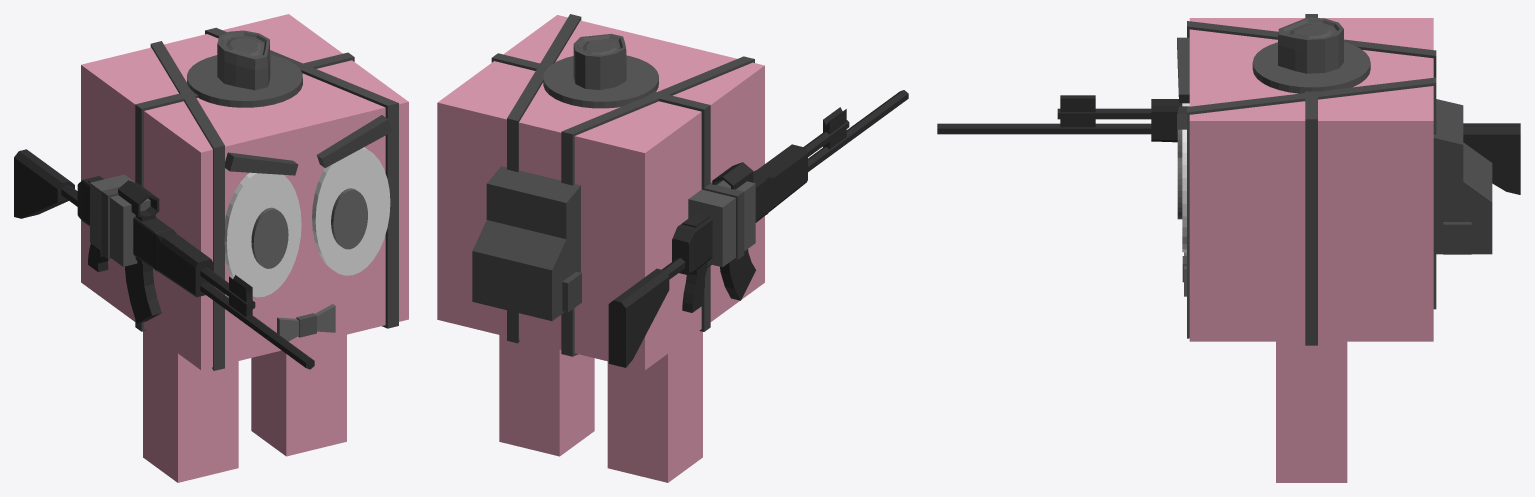
File: Bob.fbx
The picture shows the model from 3 angles, left to right: view 1: azimuth 30°, elevation 25°; view 2: azimuth 150°, elevation 25°; view 3: azimuth 270°, elevation 25°; orthographic projection.
Parts seen in each view (by area): view 1: cubo, arma, perna_dir, perna_esq, fedora, olho_eq, olho_dir, suspensorio_esq, suspensorio_dir, mao_mecanica, iris_dir, iris_esq (+5 smaller); view 2: cubo, Mochila, arma, perna_dir, perna_esq, fedora, suspensorio_dir, mao_mecanica, suspensorio_esq, suspensorio_meio, Cube.007; view 3: cubo, perna_esq, arma, Mochila, fedora, suspensorio_meio, suspensorio_esq, suspensorio_dir, sombracelha_dir, olho_eq.
Part boxes in pixels (bbox=[...]): cubo: bbox=[81, 14, 408, 369]; arma: bbox=[14, 149, 314, 369]; perna_dir: bbox=[143, 330, 238, 482]; perna_esq: bbox=[251, 334, 346, 456]; fedora: bbox=[187, 30, 302, 107]; olho_eq: bbox=[312, 147, 390, 275]; olho_dir: bbox=[224, 172, 301, 297]; suspensorio_esq: bbox=[205, 27, 398, 328]; suspensorio_dir: bbox=[150, 41, 224, 370]; mao_mecanica: bbox=[90, 174, 157, 266]; iris_dir: bbox=[251, 207, 288, 268]; iris_esq: bbox=[331, 188, 367, 249]; cubo: bbox=[437, 15, 764, 370]; Mochila: bbox=[472, 166, 581, 320]; arma: bbox=[608, 90, 908, 367]; perna_dir: bbox=[607, 331, 702, 482]; perna_esq: bbox=[499, 335, 594, 456]; fedora: bbox=[543, 33, 658, 108]; suspensorio_dir: bbox=[561, 56, 754, 356]; mao_mecanica: bbox=[688, 180, 755, 267]; suspensorio_esq: bbox=[507, 14, 581, 343]; suspensorio_meio: bbox=[491, 53, 710, 331]; Cube.007: bbox=[701, 183, 744, 259]; cubo: bbox=[1189, 18, 1433, 341]; perna_esq: bbox=[1276, 341, 1347, 482]; arma: bbox=[937, 95, 1520, 194]; Mochila: bbox=[1433, 99, 1492, 254]; fedora: bbox=[1252, 17, 1370, 93]; suspensorio_meio: bbox=[1305, 14, 1317, 345]; suspensorio_esq: bbox=[1187, 77, 1436, 338]; suspensorio_dir: bbox=[1187, 21, 1436, 77]; sombracelha_dir: bbox=[1177, 37, 1189, 103]; olho_eq: bbox=[1182, 129, 1186, 252].
Bounding box in the file's own units: 237 × 373 × 479.
